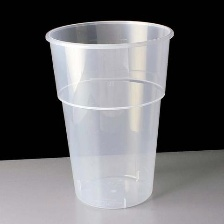glass: (36, 14, 177, 213)
